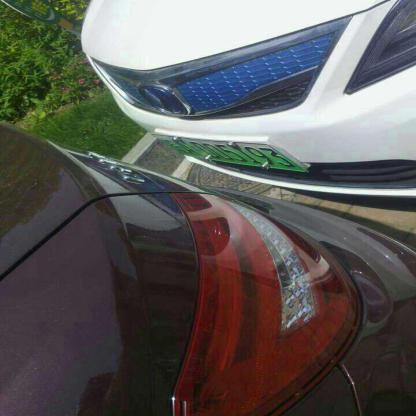lp: (148, 132, 307, 172)
